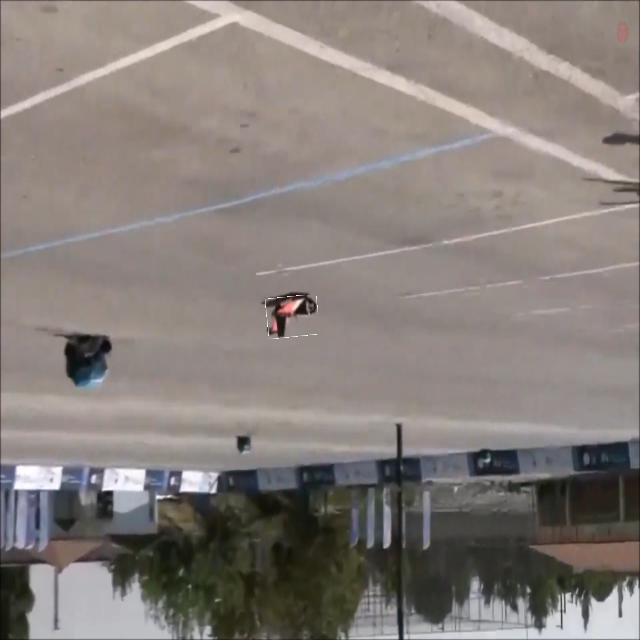UAV: (248, 288, 317, 360)
